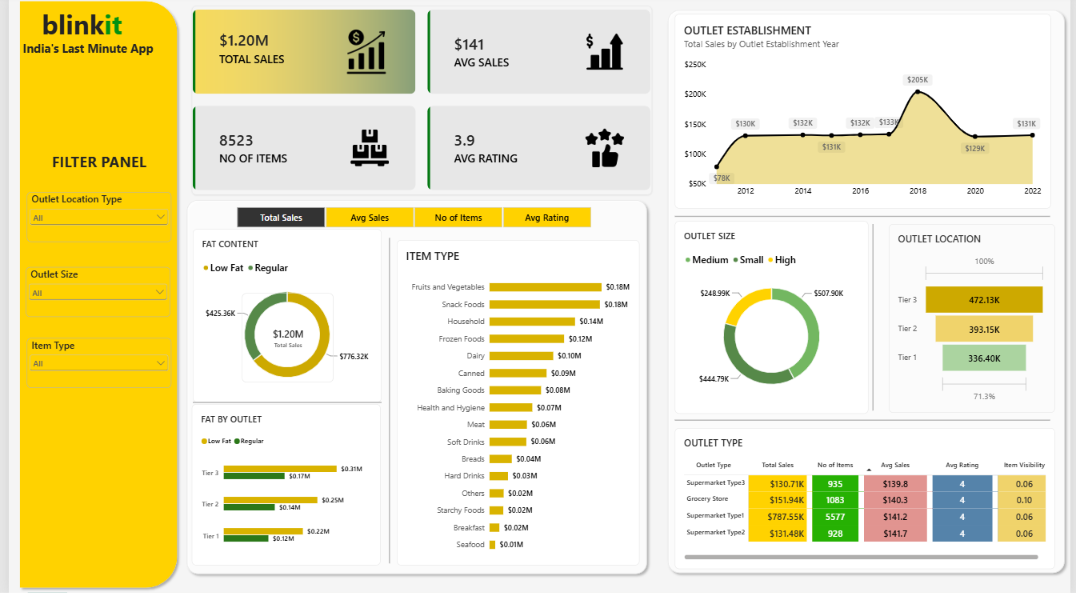

This screenshot's page, from the dashboard's own definition file:
{"tool":"powerbi","page":{"name":"Page 1","canvas":[1920,1080],"ordinal":0},"visuals":[{"type":"shape","box":[10.8,0,303,1079.9],"z":0},{"type":"textbox","box":[504.2,0,456.6,64.9],"z":1000},{"type":"textbox","box":[60.6,17.3,506.4,86.6],"z":2000},{"type":"textbox","box":[26,80.1,287.8,45.4],"z":3000},{"type":"cardVisual","fields":{"Data":["BlinkIT Grocery Data.Total Sales","BlinkIT Grocery Data.Avg Sales","BlinkIT Grocery Data.No of Items","BlinkIT Grocery Data.Avg Rating"]},"box":[331.1,17.3,833.2,341.9],"z":4000},{"type":"shape","box":[313.8,359.2,850.5,694.7],"z":5000},{"type":"slicer","fields":{"Values":["Metrics.Metrics"]},"box":[392.5,379.7,679.5,40],"z":6000},{"type":"donutChart","title":"FAT CONTENT","fields":{"Category":["BlinkIT Grocery Data.Item Fat Content"],"Y":["BlinkIT Grocery Data.Total Sales"]},"box":[332.8,422.4,341.9,313.8],"z":7000},{"type":"cardVisual","fields":{"Data":["BlinkIT Grocery Data.Total Sales"]},"box":[421.8,536.6,166.6,162.3],"z":8000},{"type":"clusteredBarChart","title":"FAT BY OUTLET","fields":{"Category":["BlinkIT Grocery Data.Outlet Location Type"],"Series":["BlinkIT Grocery Data.Item Fat Content"],"Y":["BlinkIT Grocery Data.Total Sales"]},"box":[331.1,738,341.3,292.3],"z":9000},{"type":"shape","box":[332.8,723.2,341.3,23.5],"z":10000},{"type":"shape","box":[674.1,437.3,27.7,588.8],"z":11000},{"type":"barChart","title":"ITEM TYPE","fields":{"Category":["BlinkIT Grocery Data.Item Type"],"Y":["BlinkIT Grocery Data.Total Sales"]},"box":[701.9,441.6,439.5,588.8],"z":12000},{"type":"shape","box":[1184,17.1,736,1036.8],"z":13000},{"type":"lineChart","title":"OUTLET ESTABLISHMENT","fields":{"Category":["BlinkIT Grocery Data.Outlet Establishment Year"],"Y":["BlinkIT Grocery Data.Total Sales"]},"box":[1205.3,32,680.5,352],"z":14000},{"type":"shape","box":[1205.4,383.1,679.5,30.3],"z":15000},{"type":"donutChart","title":"OUTLET SIZE","fields":{"Category":["BlinkIT Grocery Data.Outlet Size"],"Y":["BlinkIT Grocery Data.Total Sales"]},"box":[1205.4,406.9,350.6,348.4],"z":16000},{"type":"shape","box":[1556,413.4,15.1,337.6],"z":17000},{"type":"funnel","title":"OUTLET LOCATION","fields":{"Category":["BlinkIT Grocery Data.Outlet Location Type"],"Y":["Sum(BlinkIT Grocery Data.Sales)"]},"box":[1592.8,413.4,300.8,341.9],"z":18000},{"type":"shape","box":[1205.4,755.3,679.5,26],"z":19000},{"type":"pivotTable","title":"OUTLET TYPE","fields":{"Rows":["BlinkIT Grocery Data.Outlet Type"],"Values":["BlinkIT Grocery Data.Total Sales","BlinkIT Grocery Data.No of Items","BlinkIT Grocery Data.Avg Sales","BlinkIT Grocery Data.Avg Rating","Avg(BlinkIT Grocery Data.Item Visibility)"]},"box":[1205.4,781.3,688.2,255.4],"z":20000},{"type":"slicer","fields":{"Values":["BlinkIT Grocery Data.Outlet Location Type"]},"box":[32,355.1,261.6,90.8],"z":21000},{"type":"slicer","fields":{"Values":["BlinkIT Grocery Data.Outlet Size"]},"box":[29.9,490.7,261.6,90.8],"z":22000},{"type":"slicer","fields":{"Values":["BlinkIT Grocery Data.Item Type"]},"box":[32,618.7,261.6,90.8],"z":23000},{"type":"textbox","box":[32.6,280.5,262.4,38],"z":25000}]}

Visuals, with their boxes in screenshot pixels (x1, y1, x2, y2), scaled from the page's 1920x1080 canvas onto the 1076x593 screenshot:
shape: rect(6, 0, 176, 592)
textbox: rect(283, 0, 538, 36)
textbox: rect(34, 9, 318, 57)
textbox: rect(15, 44, 176, 69)
cardVisual - BlinkIT Grocery Data.Total Sales x BlinkIT Grocery Data.Avg Sales: rect(186, 9, 652, 197)
shape: rect(176, 197, 652, 579)
slicer - Metrics.Metrics: rect(220, 208, 601, 230)
"FAT CONTENT" donutChart: rect(187, 232, 378, 404)
cardVisual - BlinkIT Grocery Data.Total Sales: rect(236, 295, 330, 384)
"FAT BY OUTLET" clusteredBarChart: rect(186, 405, 377, 566)
shape: rect(187, 397, 378, 410)
shape: rect(378, 240, 393, 563)
"ITEM TYPE" barChart: rect(393, 242, 640, 566)
shape: rect(664, 9, 1075, 579)
"OUTLET ESTABLISHMENT" lineChart: rect(675, 18, 1057, 211)
shape: rect(676, 210, 1056, 227)
"OUTLET SIZE" donutChart: rect(676, 223, 872, 415)
shape: rect(872, 227, 880, 412)
"OUTLET LOCATION" funnel: rect(893, 227, 1061, 415)
shape: rect(676, 415, 1056, 429)
"OUTLET TYPE" pivotTable: rect(676, 429, 1061, 569)
slicer - BlinkIT Grocery Data.Outlet Location Type: rect(18, 195, 165, 245)
slicer - BlinkIT Grocery Data.Outlet Size: rect(17, 269, 163, 319)
slicer - BlinkIT Grocery Data.Item Type: rect(18, 340, 165, 390)
textbox: rect(18, 154, 165, 175)
